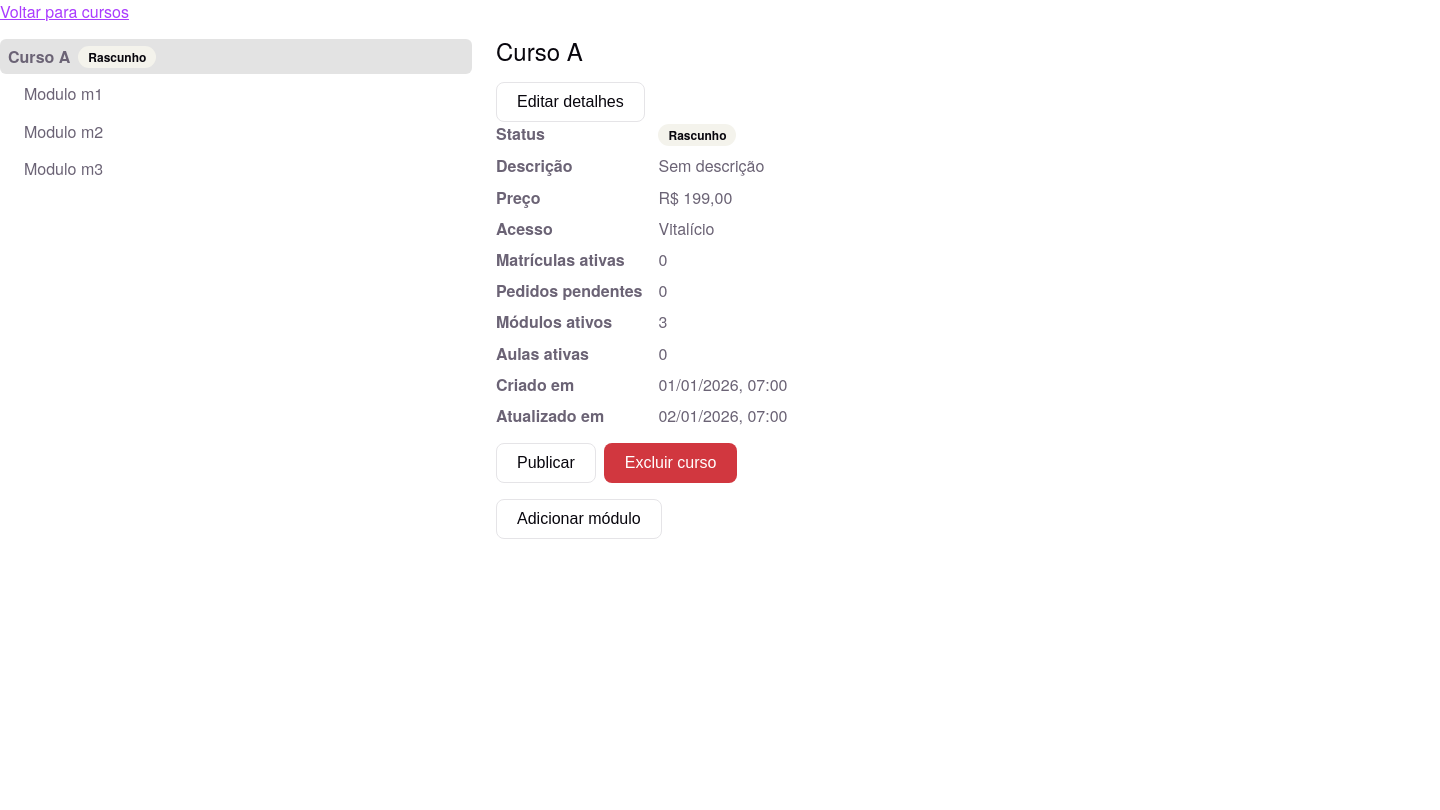
Test case: deleting a module › asks for confirmation and deletes only after confirming
The width and height of the screenshot is (1440, 810).
Click the list item "Modulo m2" at (64, 131), box [24,120,103,143]
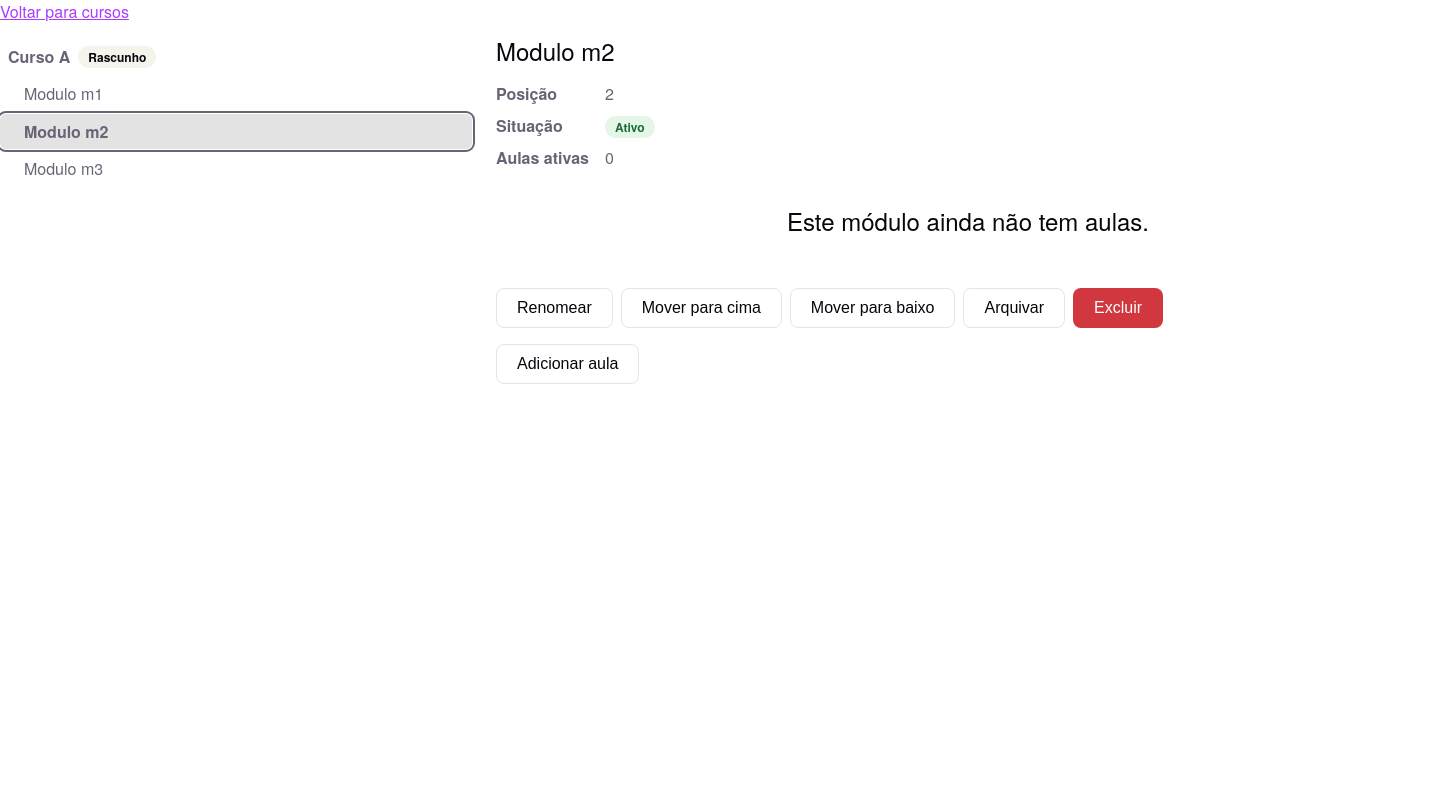
Click the button "Excluir" at (1118, 308), box [1073,288,1163,328]
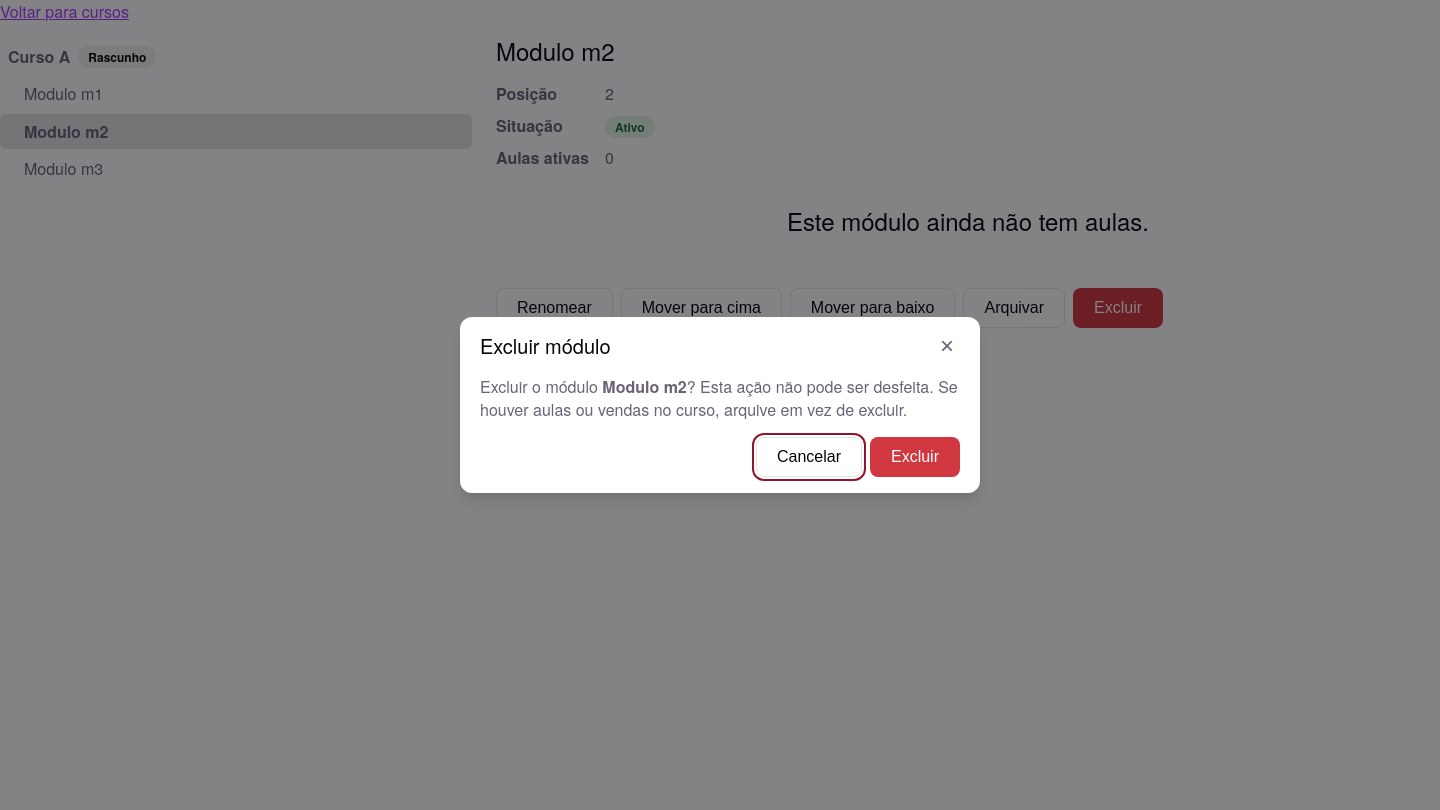
Check: the dialog "Excluir módulo" shows "Modulo m2", box [602,375,687,398]
Click the button "Excluir" at (915, 457), box [870,437,960,477]
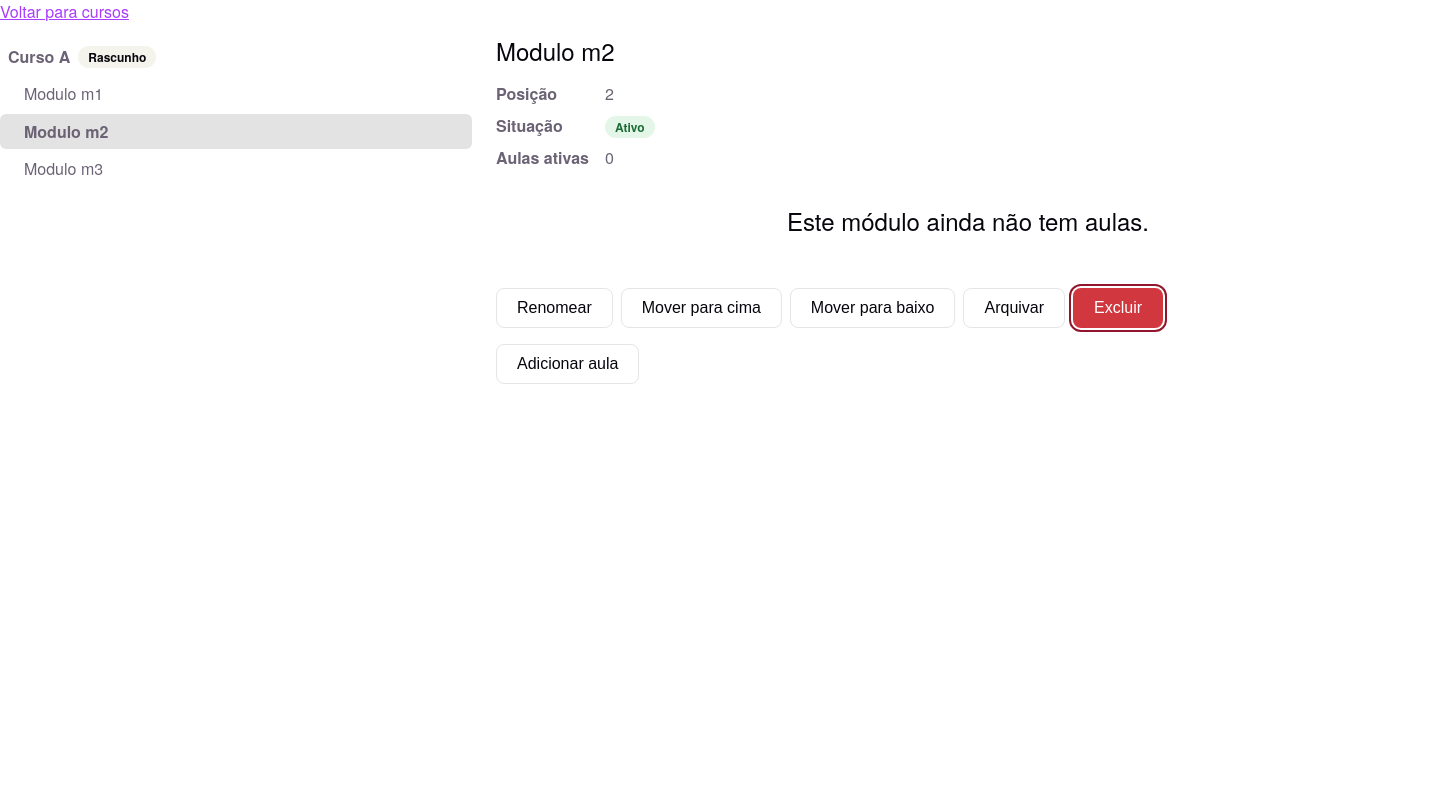
Check: the dialog is gone
